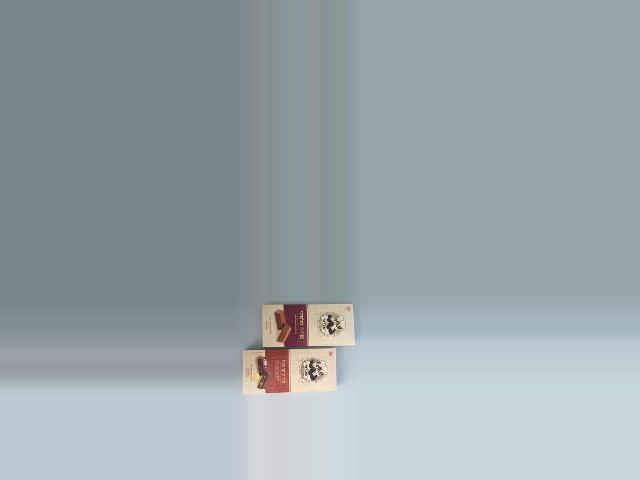chocolate: (240, 338, 340, 395)
